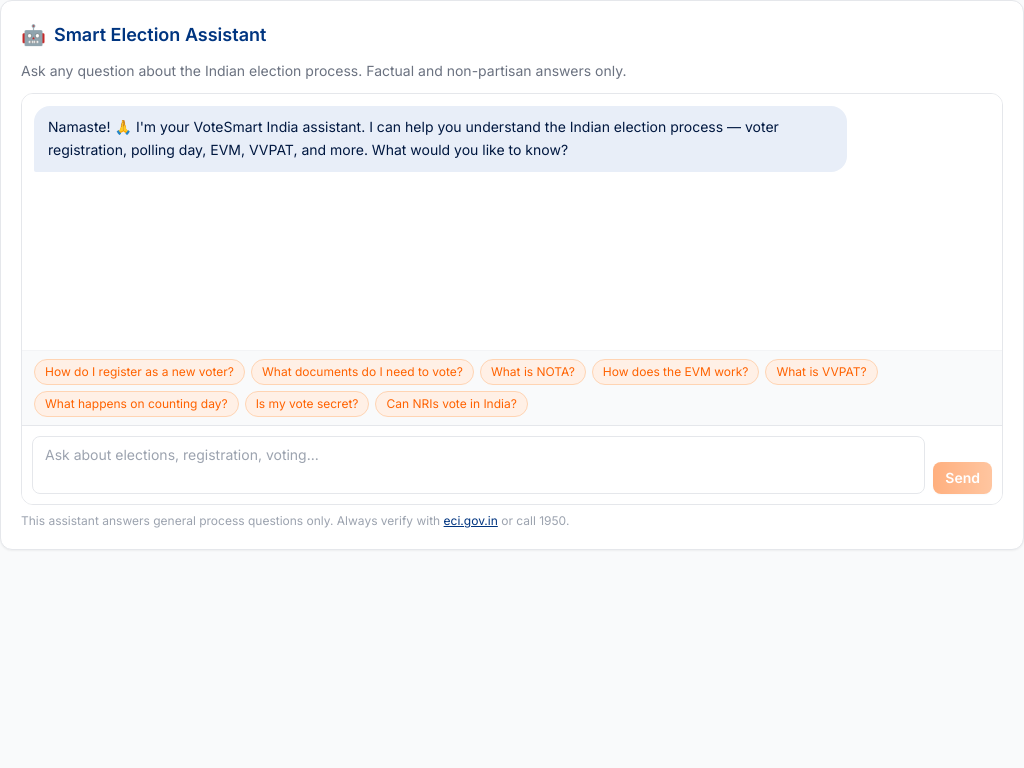
Scenario: AssistantChat › shows bot response after timeout
The width and height of the screenshot is (1024, 768).
Type "What is NOTA?" into the text box with placeholder "Ask about elections, registration, voting...".
click(479, 465); type("What is NOTA?")  # box [32,436,925,494]
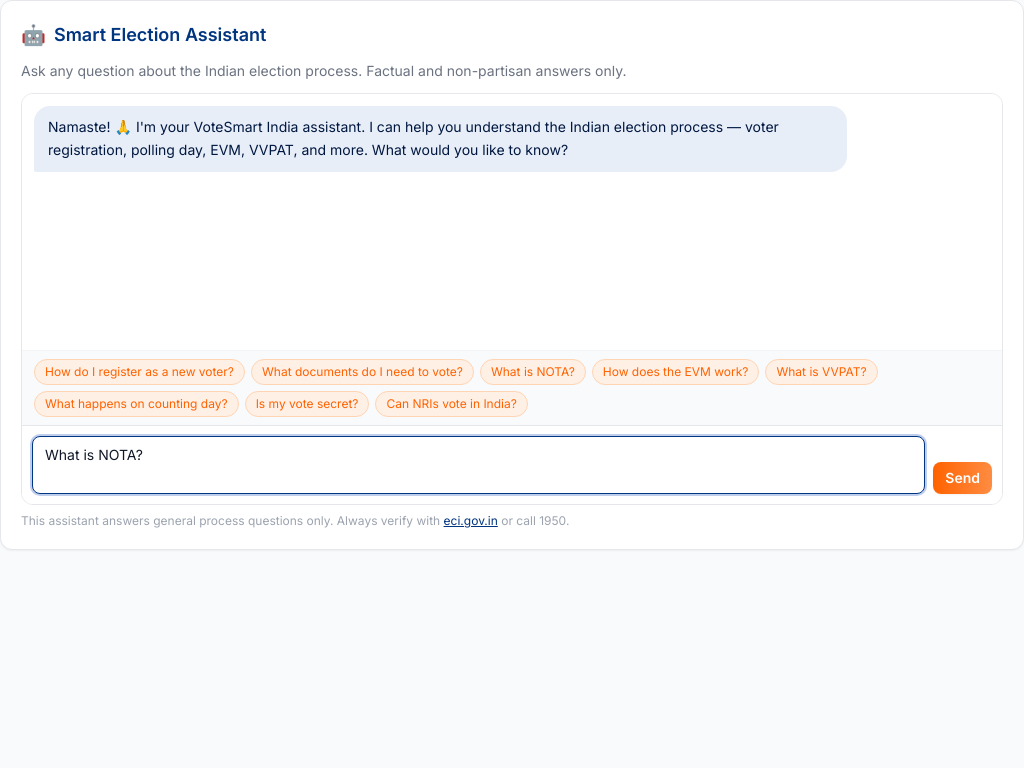
Click the button with aria-label "send message".
click(963, 478)  # box [933,462,992,494]
Wait 700 ms
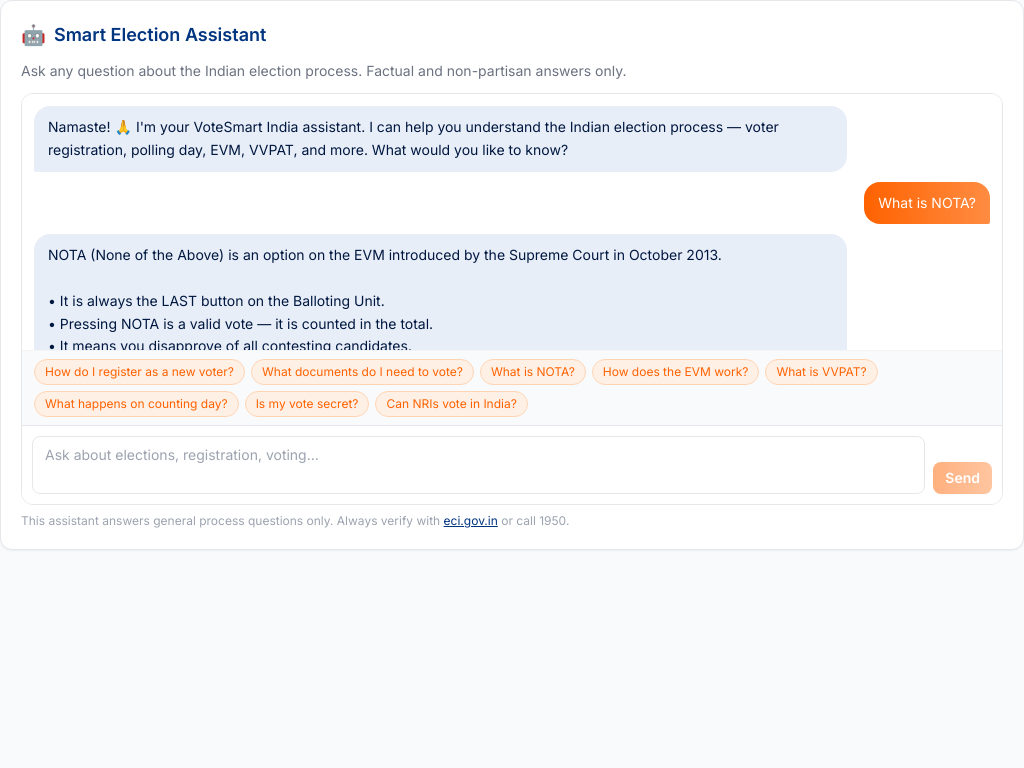
Check: the text "None of the Above" is shown, box [48,246,722,263]
